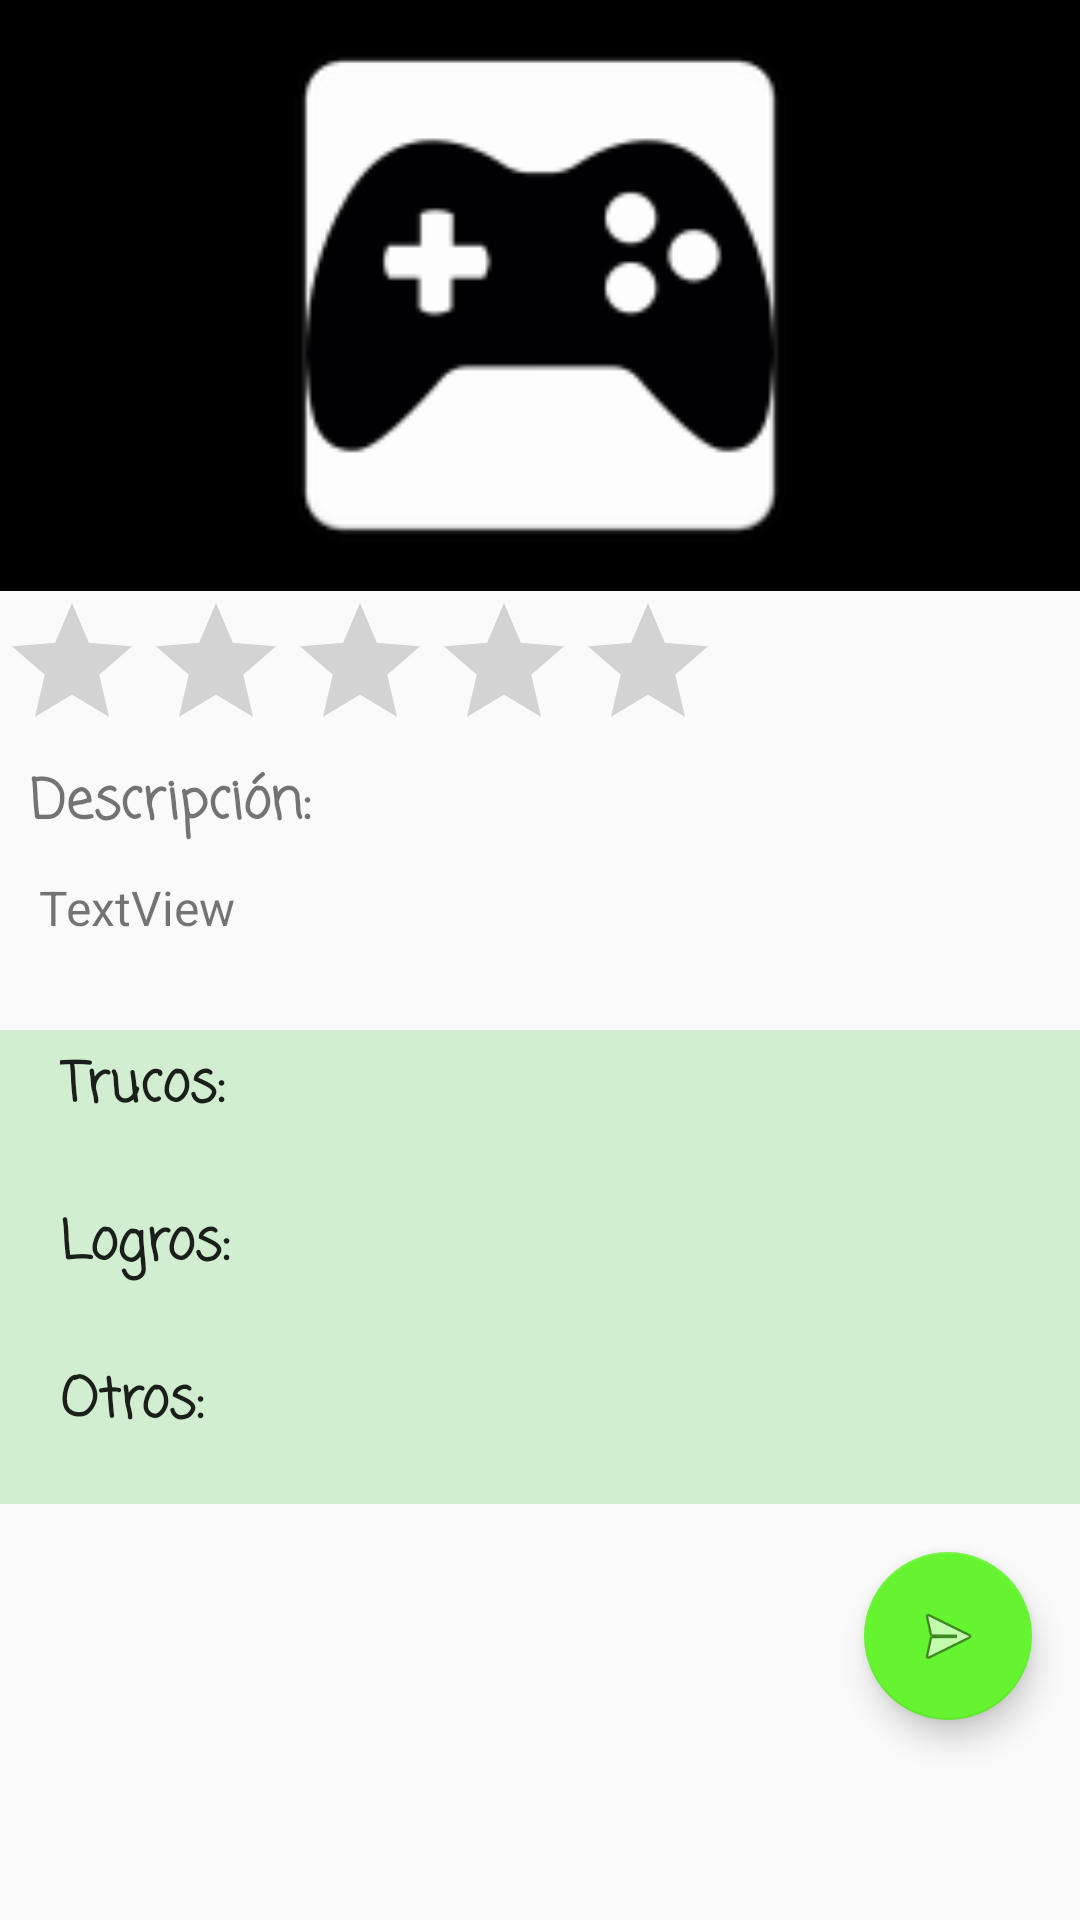

Screen size 1080 × 1920. Icon name, then its center in pixels as point (x, y):
send: point (948, 1636)
